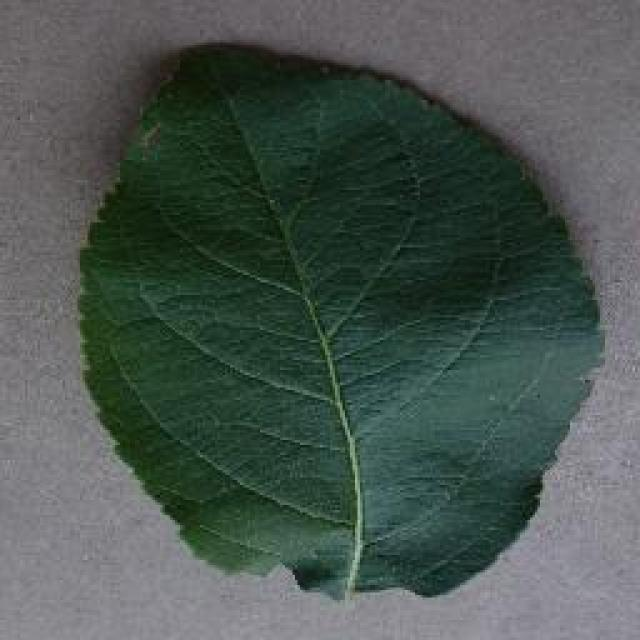apple healthy: (75, 38, 607, 600)
